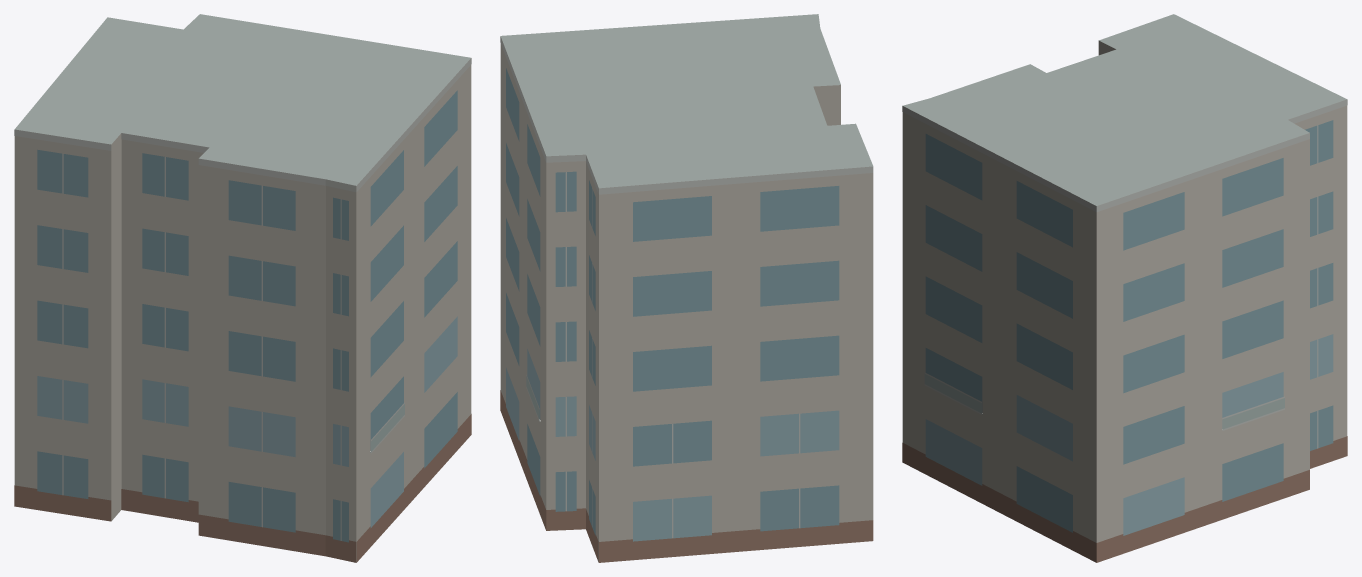
File: survey-upis-32731363.glb
The picture shows the model from 3 angles, left to right: view 1: azimuth 30°, elevation 25°; view 2: azimuth 150°, elevation 25°; view 3: azimuth 270°, elevation 25°; orthographic projection. The views are drawn at different scales.
Parts seen in each view (by area): view 1: survey-upis-32731363.tmp; view 2: survey-upis-32731363.tmp; view 3: survey-upis-32731363.tmp.
Boxes of the visible parts, left/top/right/bottom form: survey-upis-32731363.tmp: left=14, top=14, right=471, bottom=562; survey-upis-32731363.tmp: left=500, top=14, right=873, bottom=562; survey-upis-32731363.tmp: left=902, top=14, right=1347, bottom=562.
Bounding box in the file's own units: 16.41 × 14.2 × 16.06.
